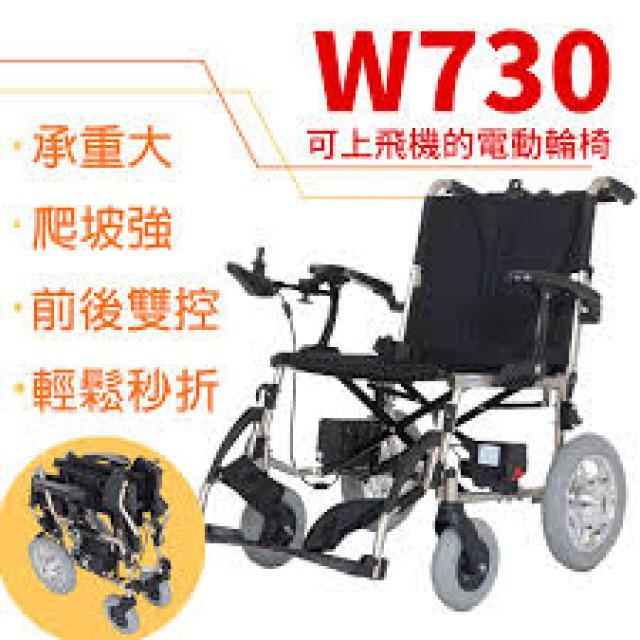wheelchair: (199, 170, 634, 614)
